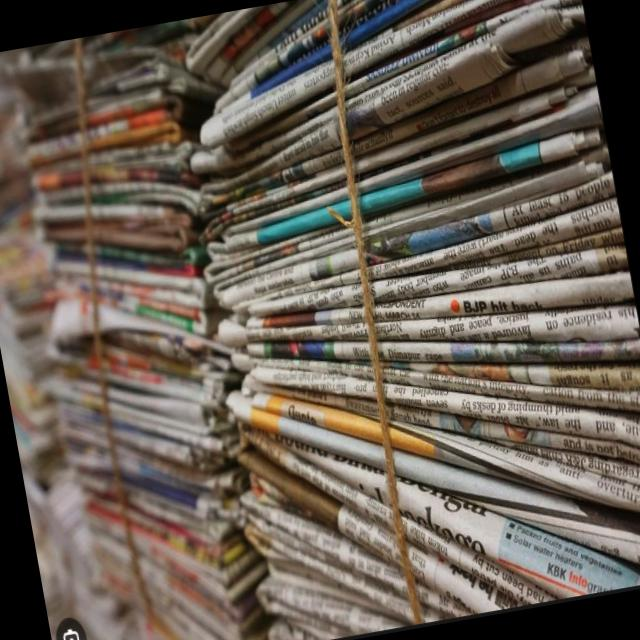Koran: (0, 0, 640, 640), (0, 17, 306, 640)
